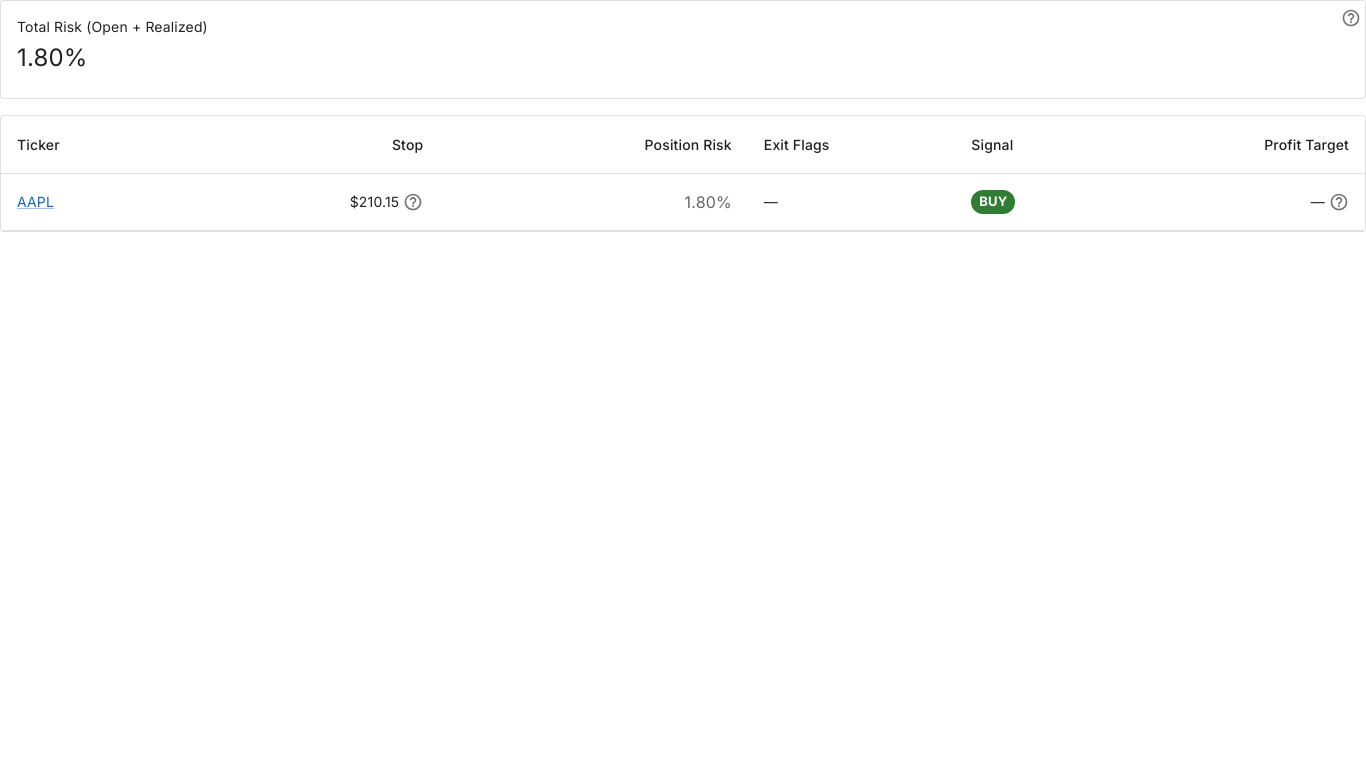
RiskPanel › shows the Stop help popover explaining the pre-ratchet case, where trailing_stop equals protective_stop
expect the text "$210.15" is shown: met, box x1=350 y1=192 x2=399 y2=212
Click the button named "Stop help" at (413,202), box x1=403 y1=192 x2=423 y2=212
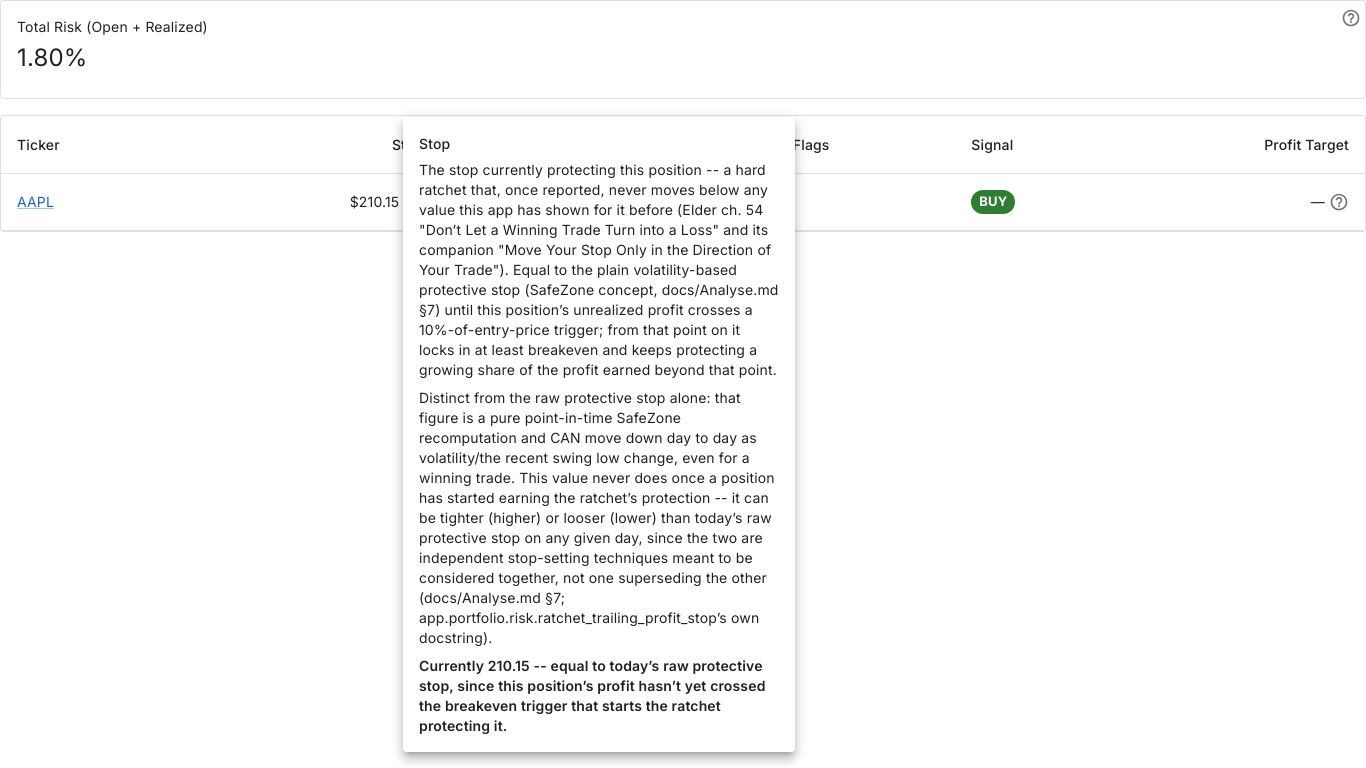
expect the text "Currently 210.15 -- equal to today’s raw protective stop, since this position’s profit hasn’t yet crossed the breakeven " is shown: met, box x1=419 y1=657 x2=766 y2=734
